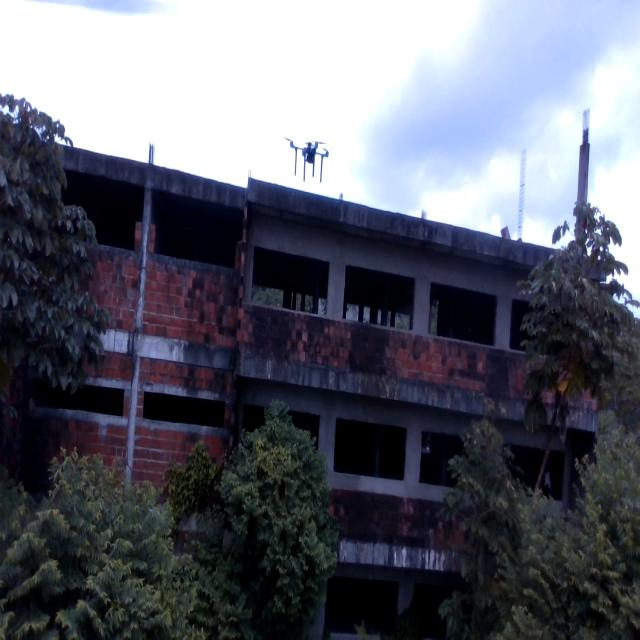-uav-: (278, 119, 332, 188)
